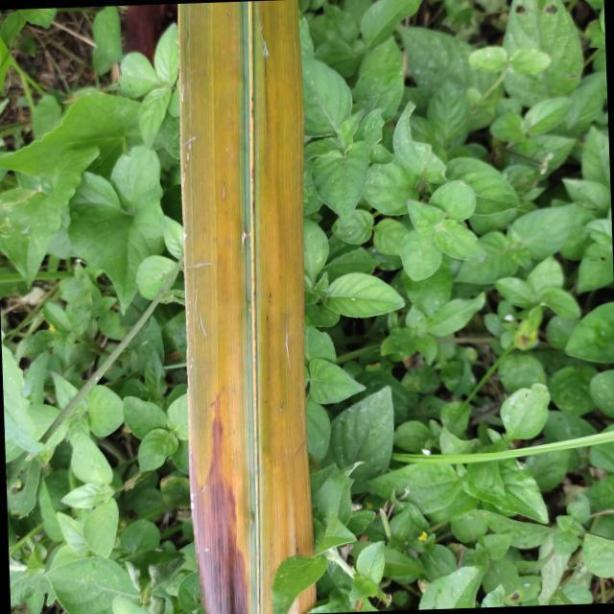Megnesium: (179, 0, 317, 614)
